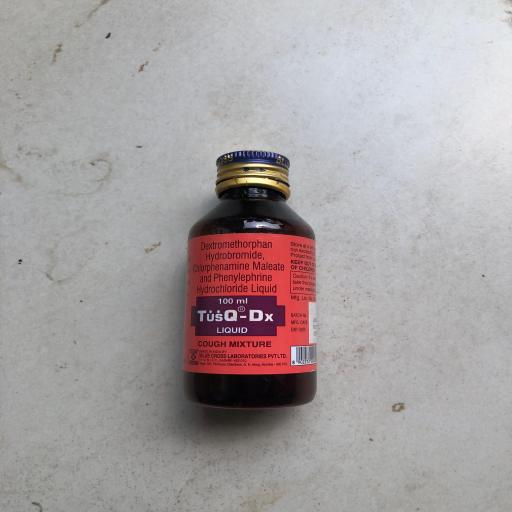waste: (173, 134, 355, 416)
